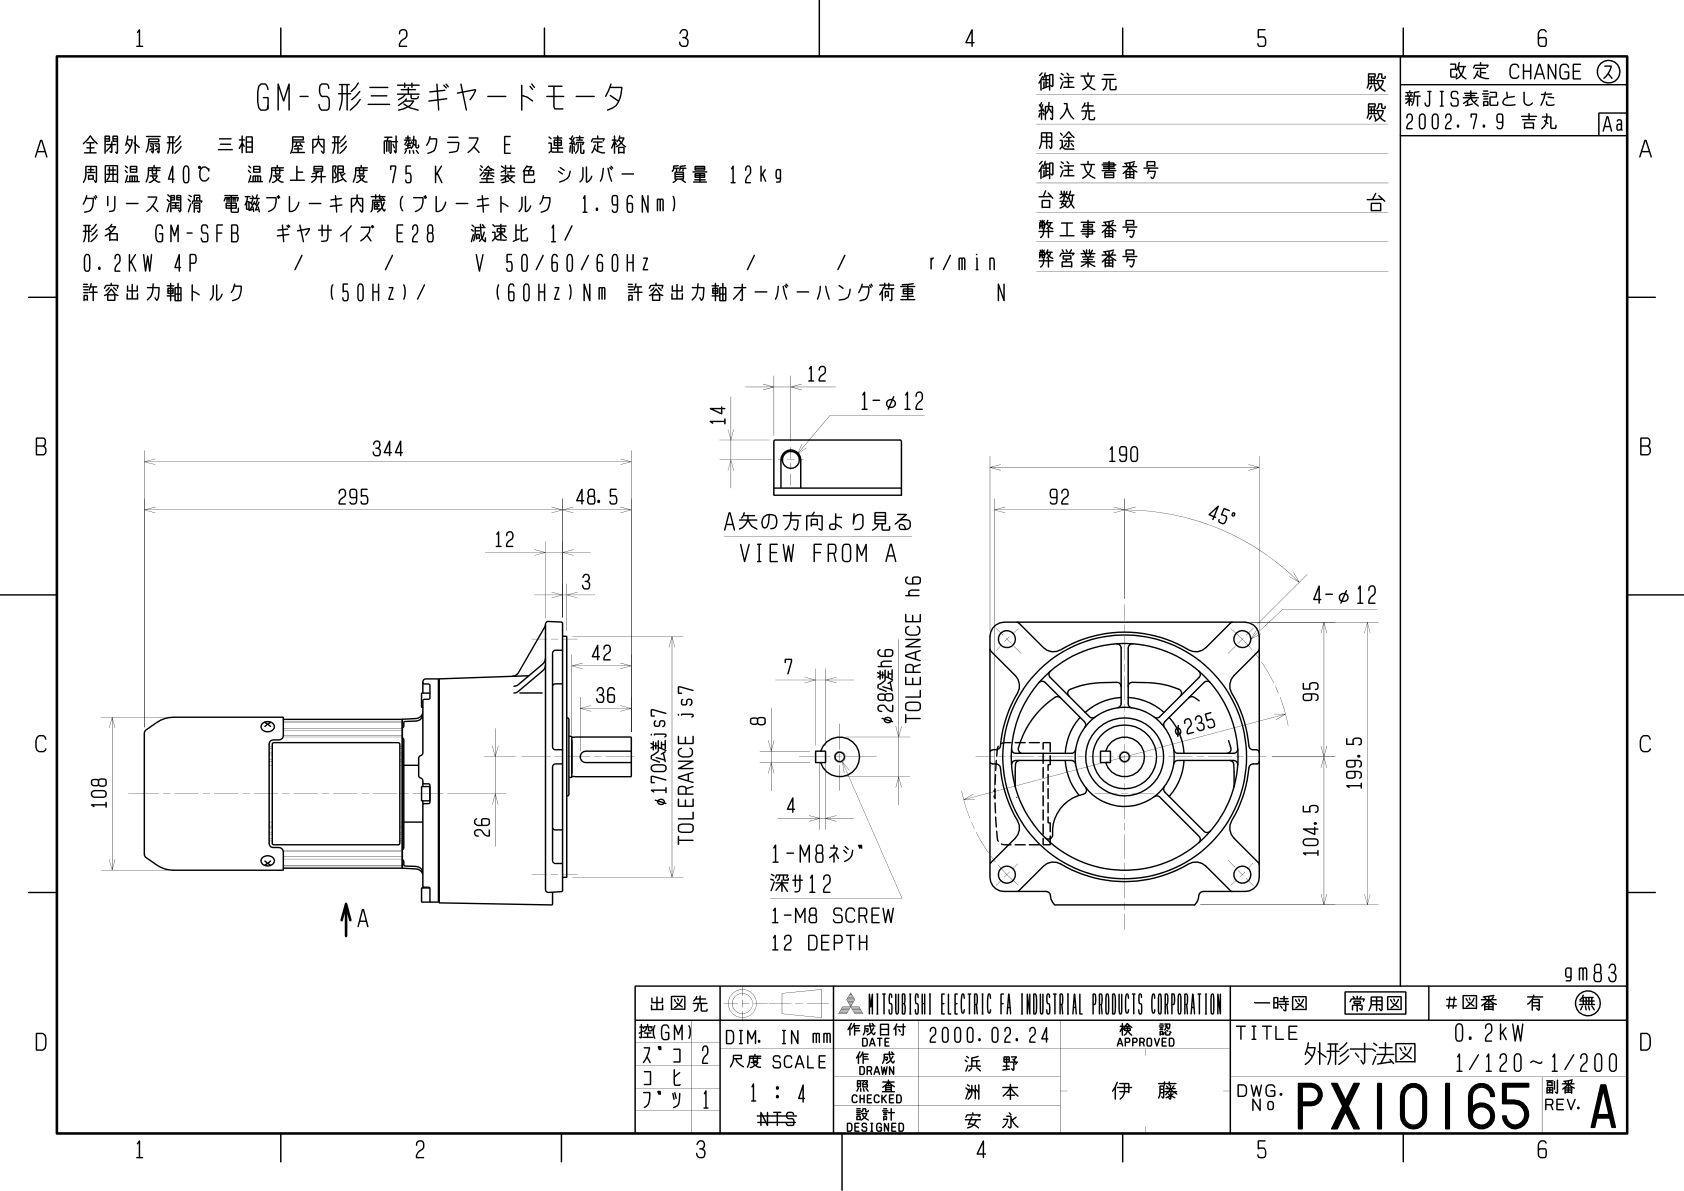GM_S_屋内＿三相_フランジ: (73, 336, 1386, 962)
